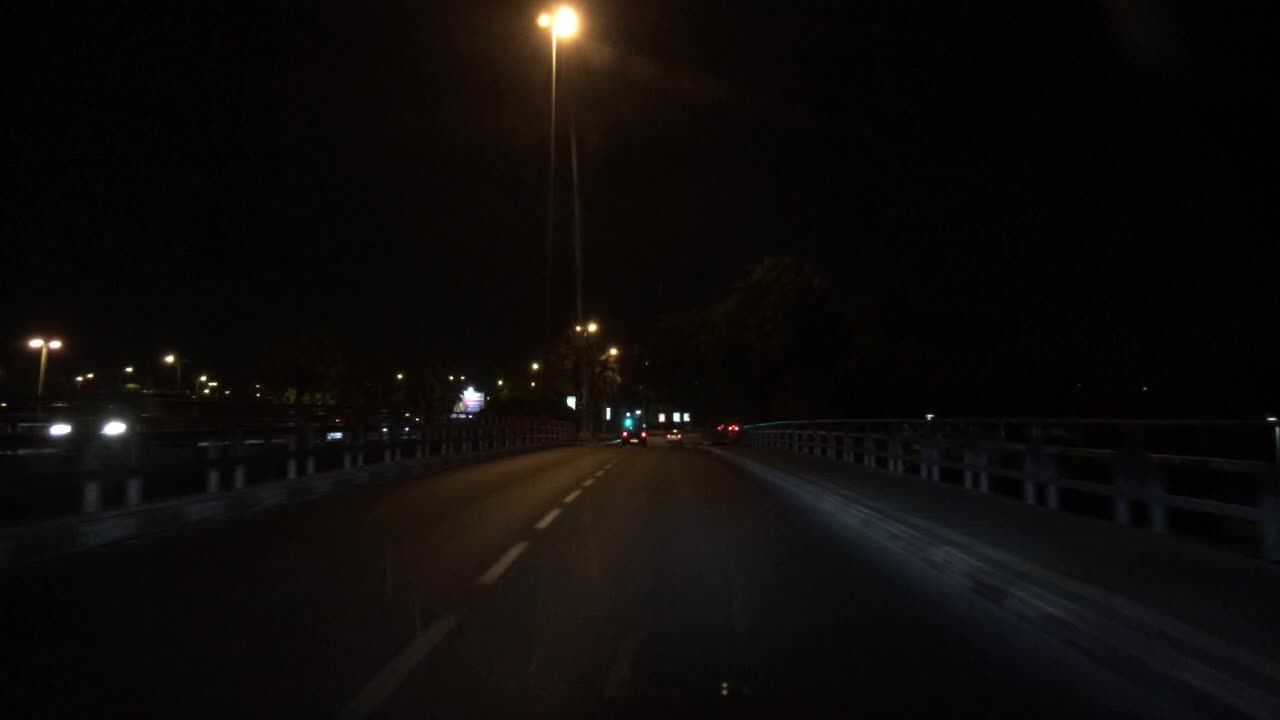car: (36, 399, 197, 455), (376, 411, 427, 441), (712, 419, 747, 445), (622, 427, 650, 447), (665, 426, 686, 444)
traffic light: (625, 415, 633, 427)
